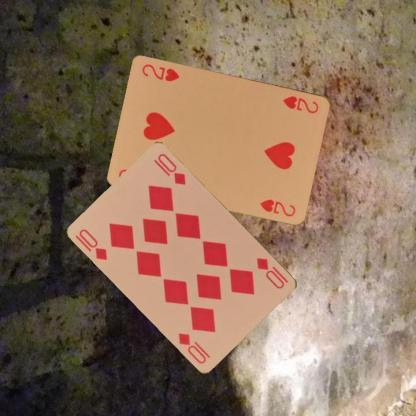10d: (72, 226, 110, 262), (254, 254, 290, 290)
2h: (280, 92, 320, 115)
